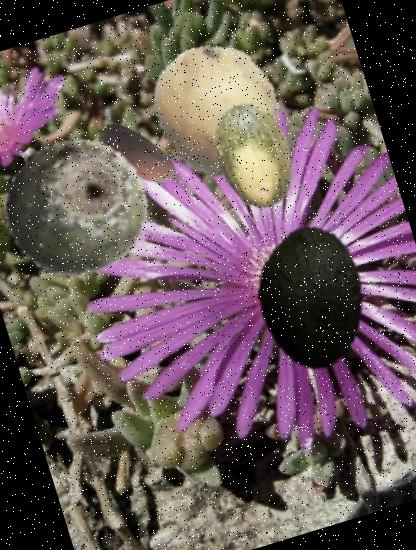Avocado: (221, 207, 401, 387)
Cactus: (0, 114, 164, 296)
Hazelnut: (84, 102, 192, 210)
Lemon: (132, 26, 302, 196)
Melon: (180, 88, 318, 226)
